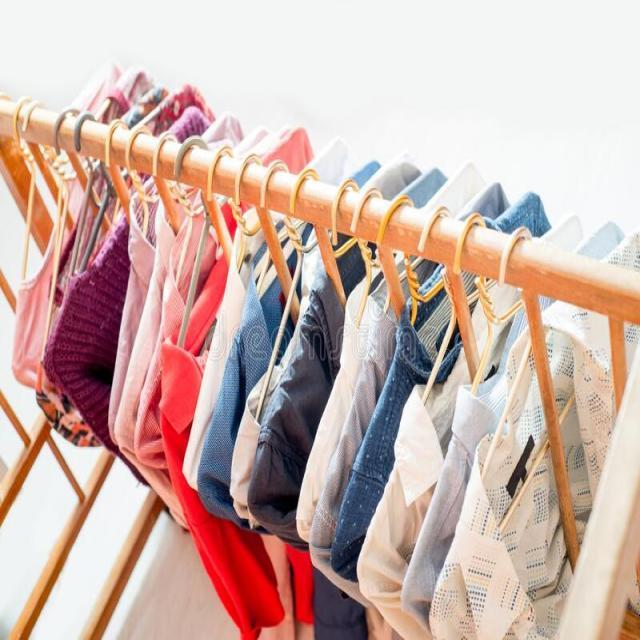clothes: (33, 246, 585, 632)
